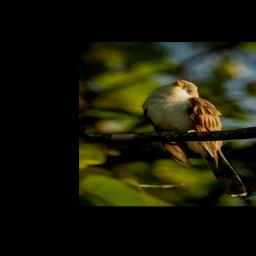Cuckoo: (143, 80, 246, 197)
